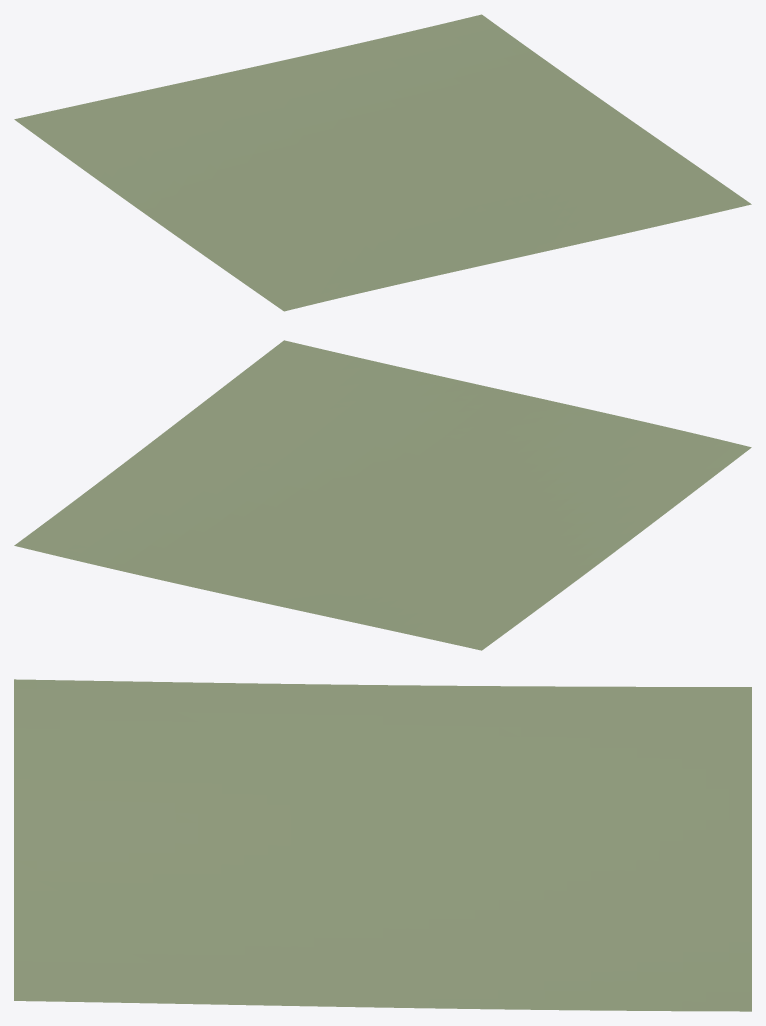
Rendered from expanse-14-22.glb.
The picture shows the model from 3 angles, top to bottom: view 1: azimuth 30°, elevation 25°; view 2: azimuth 150°, elevation 25°; view 3: azimuth 270°, elevation 25°; orthographic projection. The views are drawn at different scales.
Visible parts, largest first — view 1: expanse-14-22; view 2: expanse-14-22; view 3: expanse-14-22.
Boxes of the visible parts, <box> form: expanse-14-22: <box>14,14,751,311</box>; expanse-14-22: <box>14,340,751,650</box>; expanse-14-22: <box>14,679,751,1011</box>.
Size of the model in its own units: 256 by 7.75 by 256.
